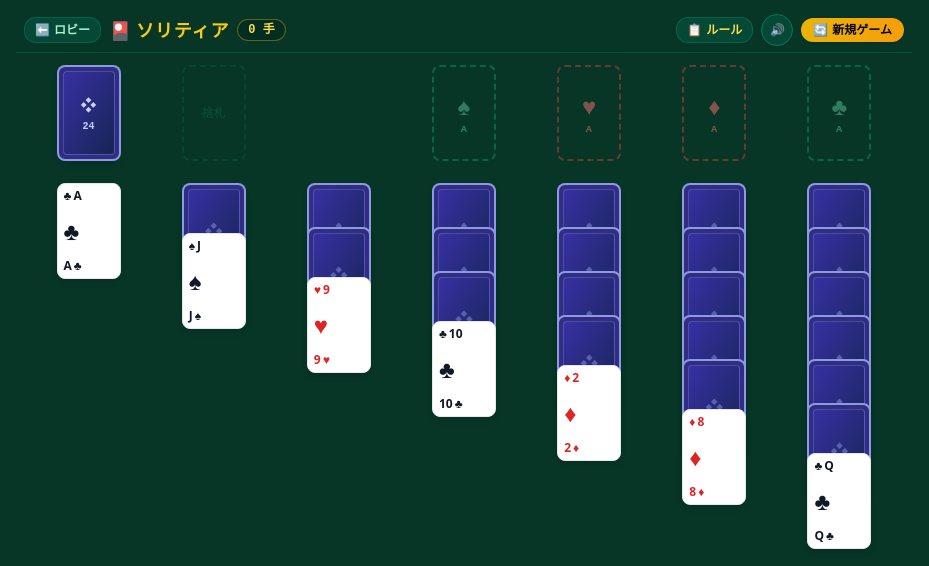
Test: KlondikeScreen UI Component › clicking stock pile draws a card and updates move count
Expected: the text "0 手" is shown, x1=237 y1=19 x2=286 y2=41
Click the button with test id "stock-pile" at (89, 113), box x1=57 y1=65 x2=121 y2=161
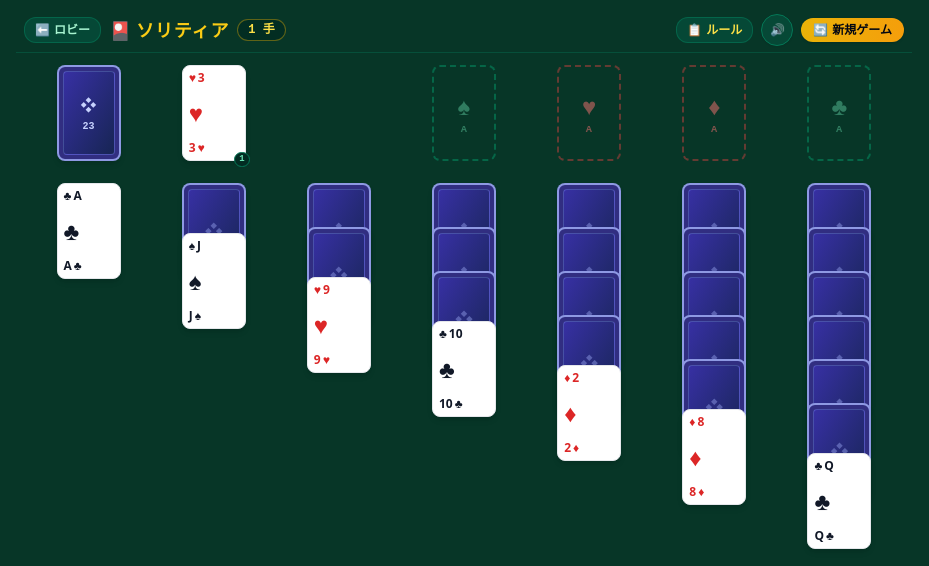
Now the text "1 手" is shown, box x1=237 y1=19 x2=286 y2=41
